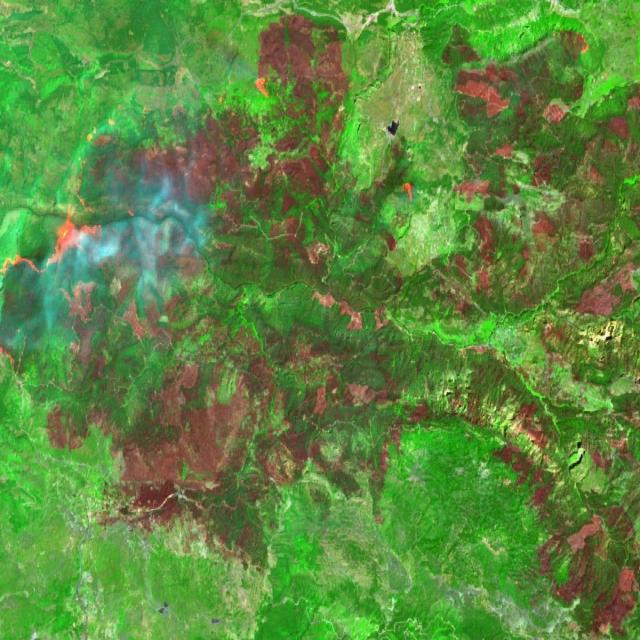fire: (0, 209, 118, 313), (240, 66, 296, 130), (396, 174, 424, 216)
